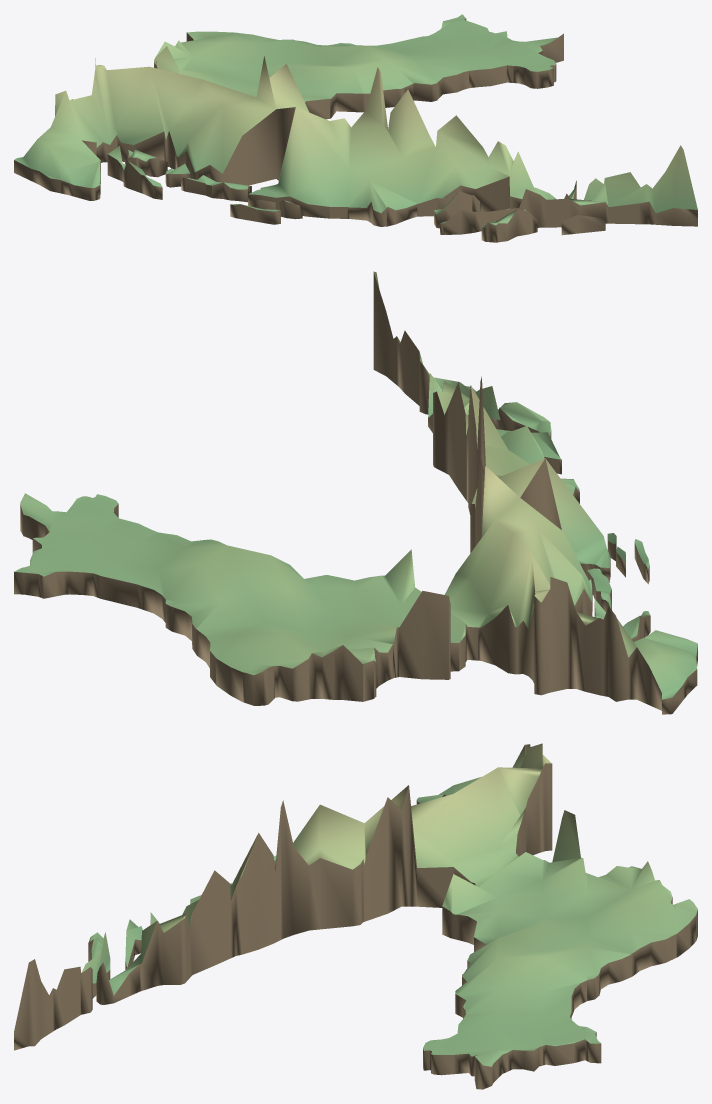
Rendered from HRV.glb.
3 renders of one model, top to bottom at view 1: azimuth 30°, elevation 25°; view 2: azimuth 150°, elevation 25°; view 3: azimuth 270°, elevation 25°, orthographic. The views are drawn at different scales.
Parts seen in each view (by area): view 1: HRV; view 2: HRV; view 3: HRV.
Part boxes in pixels (box(x1,y1,x2,y2)): HRV: box(14, 14, 697, 242); HRV: box(14, 271, 697, 714); HRV: box(14, 743, 697, 1089).
Bounding box in the file's own units: 1.53 × 0.338 × 1.51.
